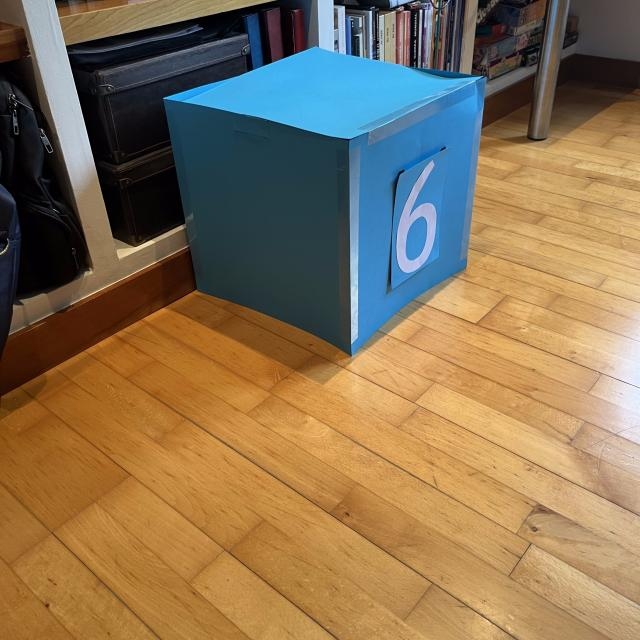box: (162, 44, 488, 357)
